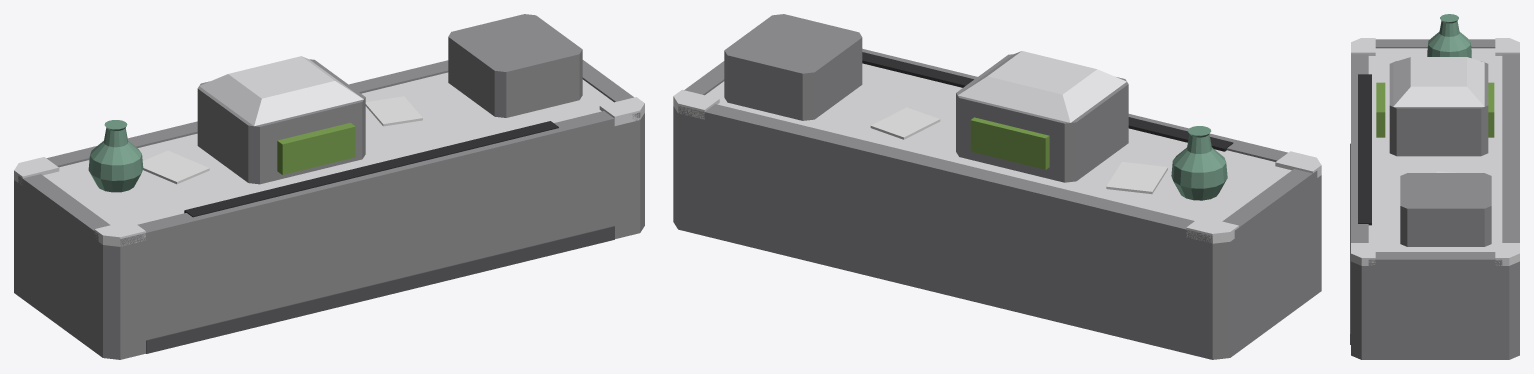
Rendered from vge_compact_research_bench.obj.
The picture shows the model from 3 angles, left to right: view 1: azimuth 30°, elevation 25°; view 2: azimuth 150°, elevation 25°; view 3: azimuth 270°, elevation 25°; orthographic projection. The views are drawn at different scales.
Visible parts, largest first — view 1: vge_compact_research_bench_0, vge_compact_research_bench_1, vge_compact_research_bench_16, vge_compact_research_bench_12, vge_compact_research_bench_10, vge_compact_research_bench_2, vge_compact_research_bench_13, vge_compact_research_bench_19, vge_compact_research_bench_14, vge_compact_research_bench_11, vge_compact_research_bench_3, vge_compact_research_bench_4 (+6 smaller); view 2: vge_compact_research_bench_0, vge_compact_research_bench_1, vge_compact_research_bench_16, vge_compact_research_bench_3, vge_compact_research_bench_12, vge_compact_research_bench_13, vge_compact_research_bench_11, vge_compact_research_bench_15, vge_compact_research_bench_19, vge_compact_research_bench_4, vge_compact_research_bench_2, vge_compact_research_bench_17 (+5 smaller); view 3: vge_compact_research_bench_0, vge_compact_research_bench_1, vge_compact_research_bench_16, vge_compact_research_bench_12, vge_compact_research_bench_13, vge_compact_research_bench_3, vge_compact_research_bench_19, vge_compact_research_bench_5, vge_compact_research_bench_2, vge_compact_research_bench_11, vge_compact_research_bench_4, vge_compact_research_bench_14 (+6 smaller).
Part boxes in pixels (x1=…): vge_compact_research_bench_0: x1=14, y1=113, x2=644, y2=359; vge_compact_research_bench_1: x1=43, y1=72, x2=613, y2=224; vge_compact_research_bench_16: x1=448, y1=14, x2=582, y2=117; vge_compact_research_bench_12: x1=197, y1=59, x2=365, y2=184; vge_compact_research_bench_10: x1=146, y1=226, x2=614, y2=353; vge_compact_research_bench_2: x1=120, y1=111, x2=640, y2=246; vge_compact_research_bench_13: x1=199, y1=56, x2=363, y2=126; vge_compact_research_bench_19: x1=184, y1=121, x2=558, y2=217; vge_compact_research_bench_14: x1=277, y1=122, x2=355, y2=174; vge_compact_research_bench_11: x1=88, y1=120, x2=143, y2=192; vge_compact_research_bench_3: x1=46, y1=60, x2=448, y2=167; vge_compact_research_bench_4: x1=18, y1=174, x2=110, y2=241; vge_compact_research_bench_0: x1=673, y1=106, x2=1321, y2=359; vge_compact_research_bench_1: x1=705, y1=63, x2=1291, y2=221; vge_compact_research_bench_16: x1=724, y1=14, x2=862, y2=120; vge_compact_research_bench_3: x1=678, y1=104, x2=1212, y2=243; vge_compact_research_bench_12: x1=956, y1=54, x2=1128, y2=182; vge_compact_research_bench_13: x1=958, y1=51, x2=1126, y2=122; vge_compact_research_bench_11: x1=1171, y1=126, x2=1227, y2=200; vge_compact_research_bench_15: x1=970, y1=117, x2=1049, y2=169; vge_compact_research_bench_19: x1=862, y1=52, x2=1233, y2=151; vge_compact_research_bench_4: x1=1222, y1=169, x2=1317, y2=238; vge_compact_research_bench_2: x1=862, y1=48, x2=1287, y2=161; vge_compact_research_bench_17: x1=1106, y1=162, x2=1167, y2=194; vge_compact_research_bench_0: x1=1351, y1=261, x2=1519, y2=359; vge_compact_research_bench_1: x1=1368, y1=48, x2=1502, y2=251; vge_compact_research_bench_16: x1=1400, y1=173, x2=1491, y2=246; vge_compact_research_bench_12: x1=1389, y1=61, x2=1488, y2=156; vge_compact_research_bench_13: x1=1393, y1=57, x2=1484, y2=106; vge_compact_research_bench_3: x1=1502, y1=54, x2=1519, y2=242; vge_compact_research_bench_19: x1=1358, y1=74, x2=1371, y2=225; vge_compact_research_bench_5: x1=1368, y1=252, x2=1502, y2=265; vge_compact_research_bench_2: x1=1351, y1=54, x2=1368, y2=242; vge_compact_research_bench_11: x1=1427, y1=14, x2=1471, y2=57; vge_compact_research_bench_4: x1=1375, y1=39, x2=1495, y2=48; vge_compact_research_bench_14: x1=1376, y1=82, x2=1385, y2=137.
Bounding box in the file's own units: 2.96 × 1 × 0.965.
